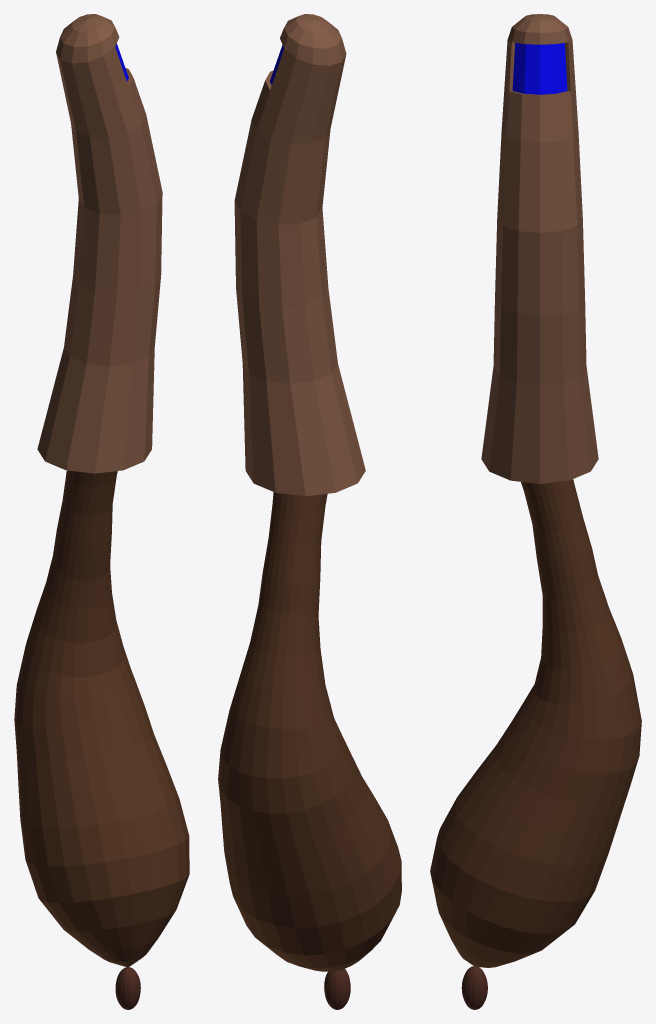
Rendered from Wand 746.glb.
3 views of the same model, side by side, from view 1: azimuth 30°, elevation 25°; view 2: azimuth 150°, elevation 25°; view 3: azimuth 270°, elevation 25° (orthographic). The views are drawn at different scales.
Parts seen in each view (by area): view 1: GeneratedWand; view 2: GeneratedWand; view 3: GeneratedWand.
Boxes of the visible parts, x1=… form: GeneratedWand: x1=14, y1=14, x2=189, y2=1009; GeneratedWand: x1=218, y1=14, x2=401, y2=1009; GeneratedWand: x1=430, y1=14, x2=641, y2=1009.
Bounding box in the file's own units: 0.0828 × 0.5328 × 0.1032.
